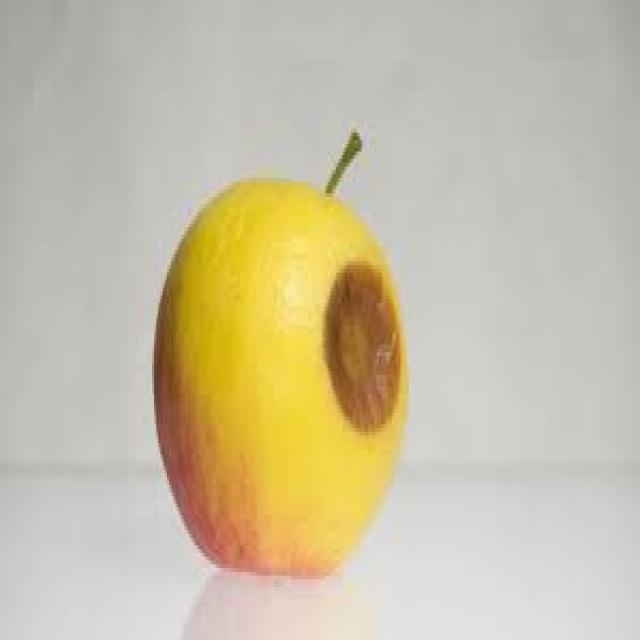organic waste: (150, 125, 404, 579)
